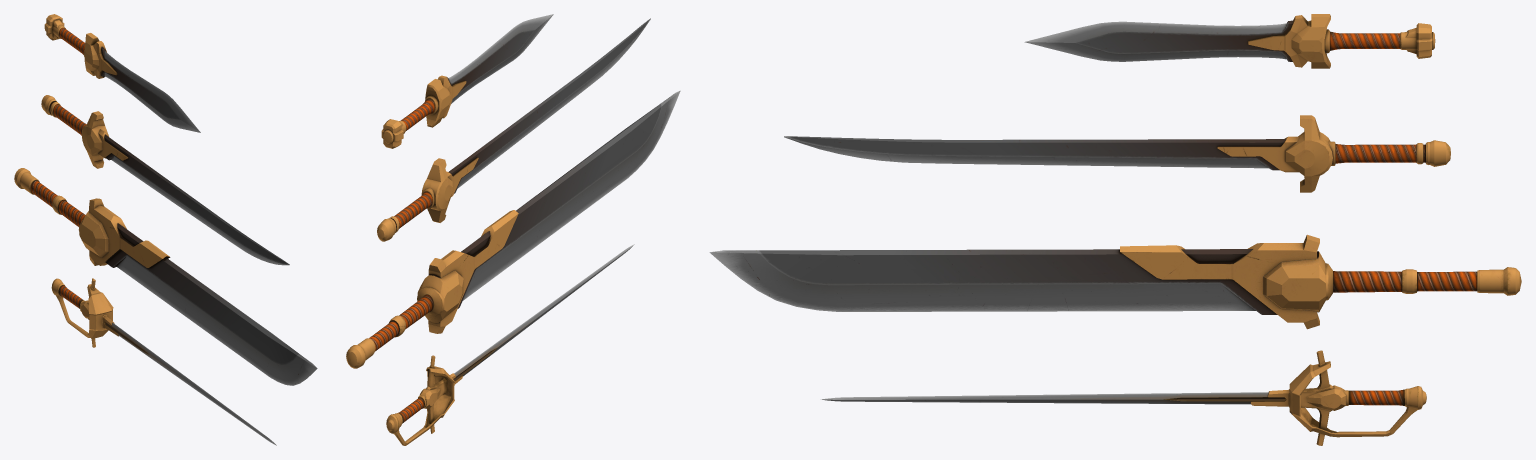
File: sword.fbx
3 renders of one model, left to right at view 1: azimuth 30°, elevation 25°; view 2: azimuth 150°, elevation 25°; view 3: azimuth 270°, elevation 25°, orthographic. The views are drawn at different scales.
Parts seen in each view (by area): view 1: defaultMaterial.003, defaultMaterial.002, defaultMaterial.001, defaultMaterial.004; view 2: defaultMaterial.003, defaultMaterial.002, defaultMaterial.001, defaultMaterial.004; view 3: defaultMaterial.003, defaultMaterial.002, defaultMaterial.001, defaultMaterial.004.
Part boxes in pixels (<box>): defaultMaterial.003: <box>14,168,317,385</box>; defaultMaterial.002: <box>41,95,289,265</box>; defaultMaterial.001: <box>44,14,200,132</box>; defaultMaterial.004: <box>51,278,276,445</box>; defaultMaterial.003: <box>346,90,680,368</box>; defaultMaterial.002: <box>377,18,650,241</box>; defaultMaterial.001: <box>381,14,553,148</box>; defaultMaterial.004: <box>386,244,634,445</box>; defaultMaterial.003: <box>709,234,1521,329</box>; defaultMaterial.002: <box>784,115,1450,192</box>; defaultMaterial.001: <box>1024,14,1435,68</box>; defaultMaterial.004: <box>820,350,1426,445</box>.
Bounding box in the file's own units: 11.58 × 140 × 240.
Materials: 1 (1 with a texture image).
